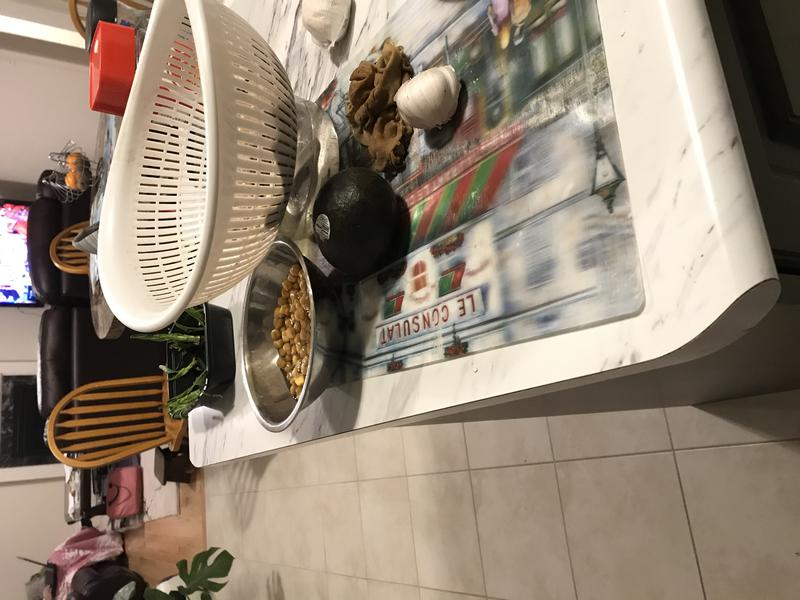avocado: (307, 166, 409, 274)
